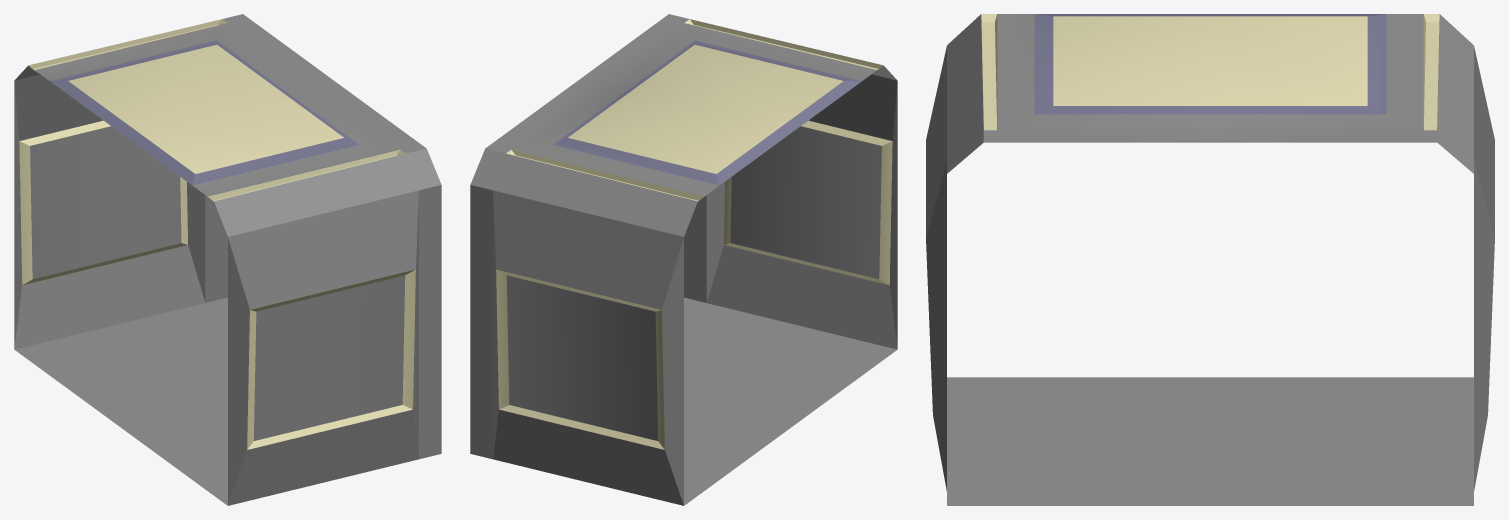
Rendered from Cor5.fbx.
The picture shows the model from 3 angles, left to right: view 1: azimuth 30°, elevation 25°; view 2: azimuth 150°, elevation 25°; view 3: azimuth 270°, elevation 25°; orthographic projection. The views are drawn at different scales.
Parts seen in each view (by area): view 1: Cube.003; view 2: Cube.003; view 3: Cube.003.
Part boxes in pixels (box(x1,y1,x2,y2)): Cube.003: box(14, 14, 441, 505); Cube.003: box(470, 14, 897, 505); Cube.003: box(926, 14, 1494, 505).
Bounding box in the file's own units: 228 × 303 × 426.
